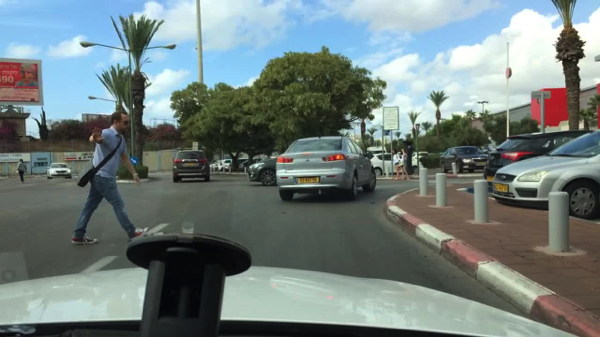car: (491, 128, 598, 220), (274, 133, 377, 202), (484, 129, 594, 190), (172, 147, 210, 183), (439, 146, 487, 174), (370, 152, 424, 176), (246, 157, 281, 187), (46, 162, 73, 179), (410, 151, 431, 172), (366, 145, 387, 156), (232, 158, 249, 171), (221, 159, 233, 171), (210, 160, 221, 172)
person: (69, 110, 149, 245), (398, 148, 410, 182), (389, 149, 401, 181), (16, 158, 28, 184)
traffic sign: (529, 90, 551, 99), (505, 67, 512, 78), (191, 141, 199, 149), (130, 158, 140, 164), (414, 124, 420, 132)
